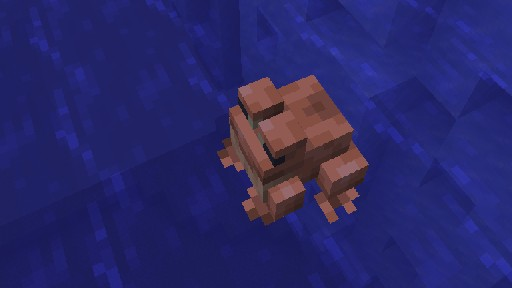frog: (216, 73, 369, 226)
